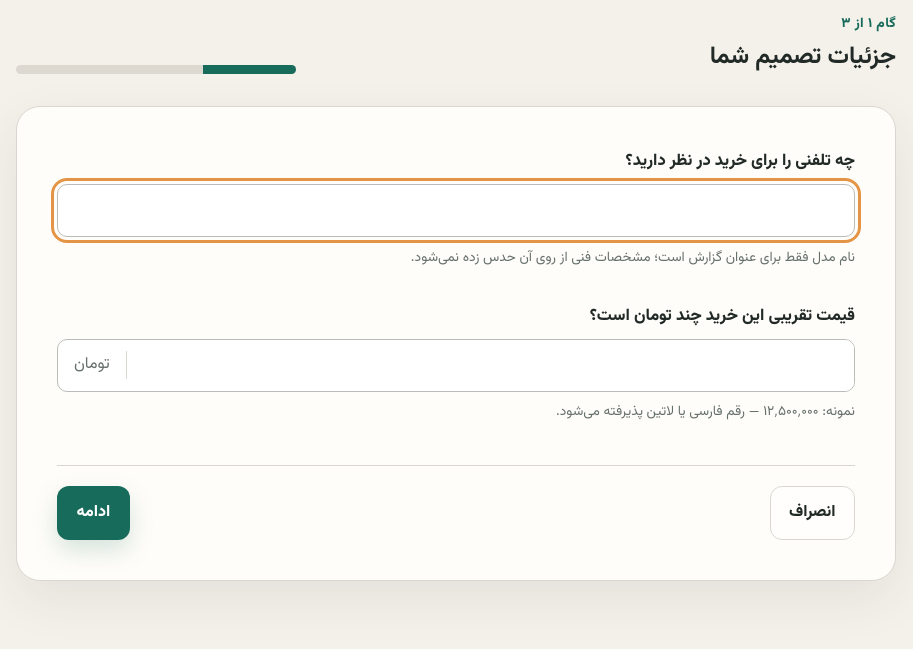
جریان پرسش‌نامه › ریشهٔ فارسی و RTL، labelهای تومان و حفظ ورودی در خطا را ارائه می‌کند
The image size is (913, 649).
Step 1. Type "مدل نمونه" into the field labelled "چه تلفنی را برای خرید در نظر دارید؟" → (456, 211), box [57,184,855,237]
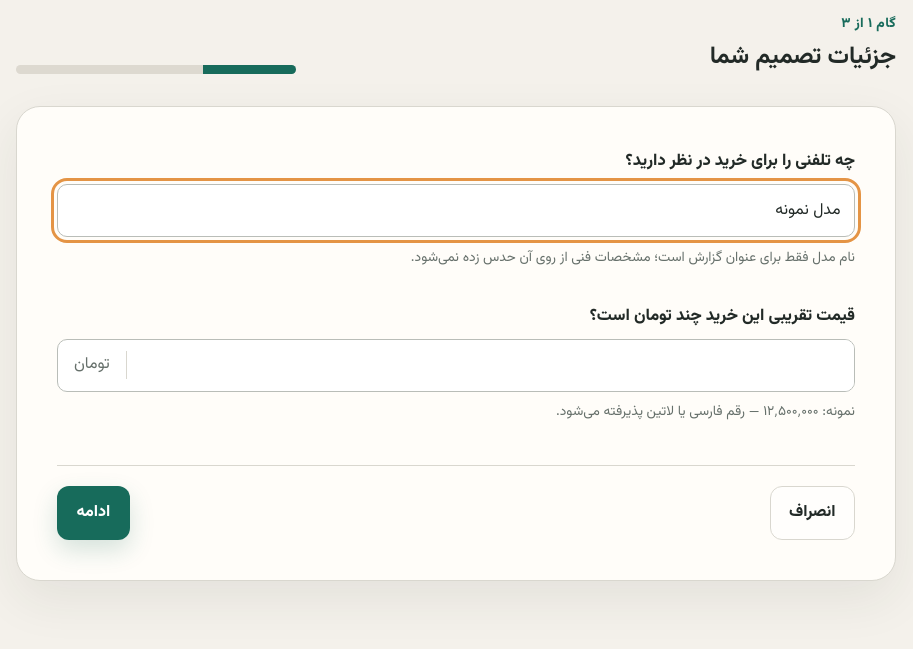
Step 2. Type "۱۲,۵۰,۰۰۰" into the field labelled "قیمت تقریبی این خرید چند تومان است؟" → (490, 366), box [127,340,854,391]
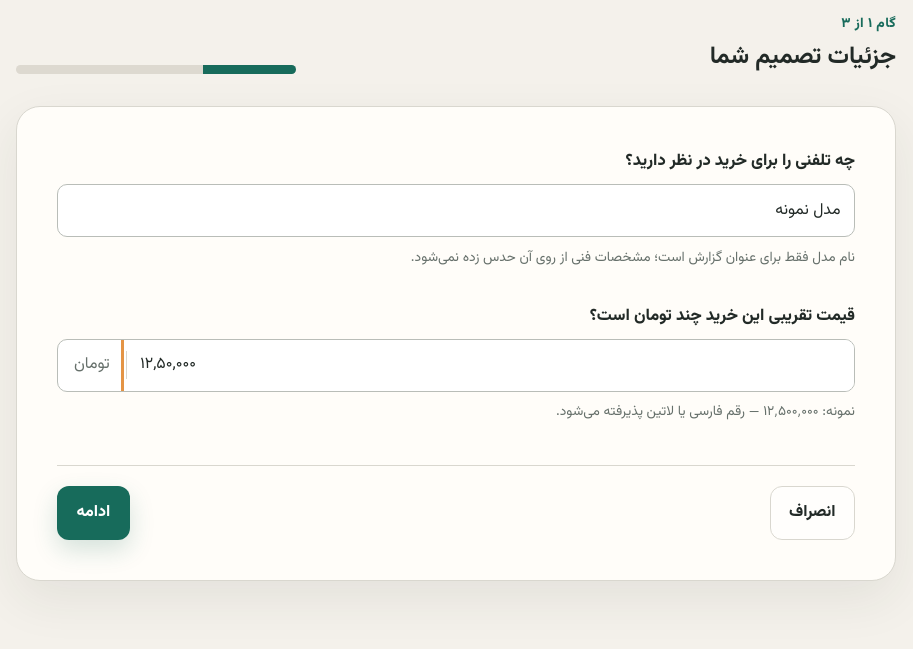
Step 3. Click the button "ادامه" → click(93, 512), box [57,486,130,540]
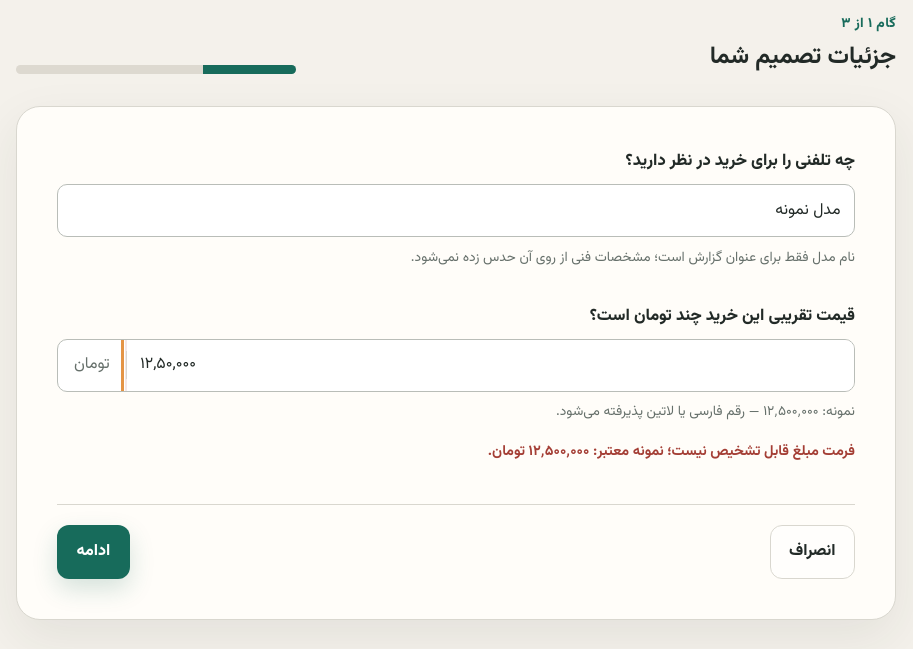
Expected: the message shows "فرمت مبلغ", [488,440,855,463]
